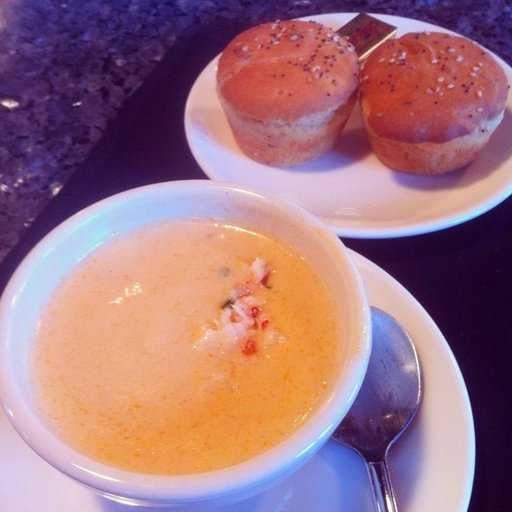soup: (6, 180, 360, 480)
